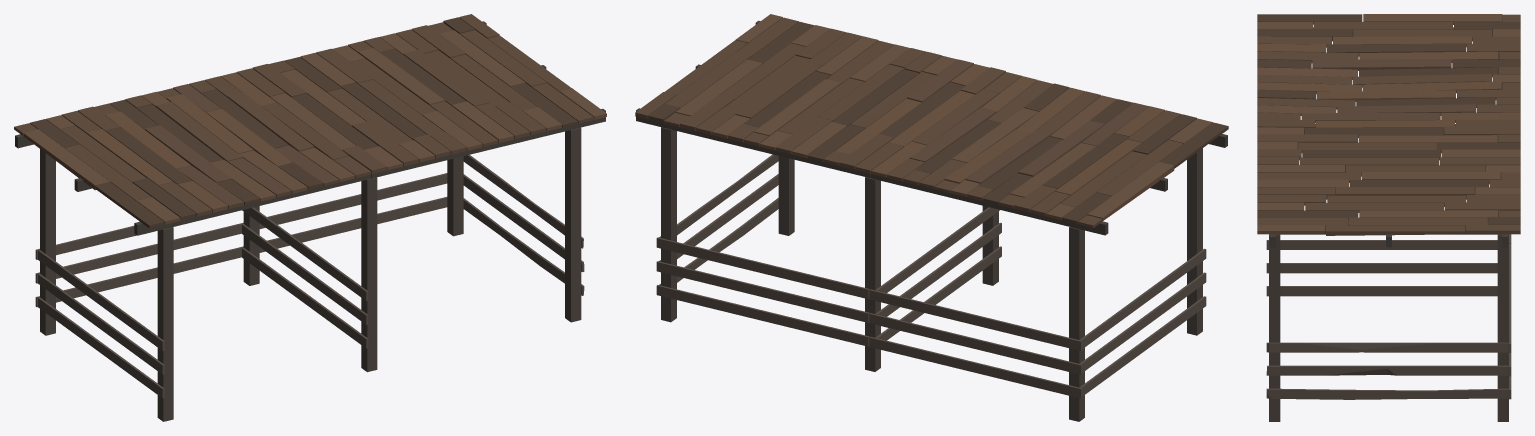
The model's file is SM_Bldg_Farm_Shed_02.fbx.
The picture shows the model from 3 angles, left to right: view 1: azimuth 30°, elevation 25°; view 2: azimuth 150°, elevation 25°; view 3: azimuth 270°, elevation 25°; orthographic projection. The views are drawn at different scales.
Parts seen in each view (by area): view 1: SM_Bldg_Farm_Shed_02; view 2: SM_Bldg_Farm_Shed_02; view 3: SM_Bldg_Farm_Shed_02.
Part boxes in pixels (x1,y1,x2,y2): SM_Bldg_Farm_Shed_02: (14, 14, 606, 421); SM_Bldg_Farm_Shed_02: (635, 14, 1228, 421); SM_Bldg_Farm_Shed_02: (1257, 14, 1520, 421).
Bounding box in the file's own units: 920 × 387 × 460.
